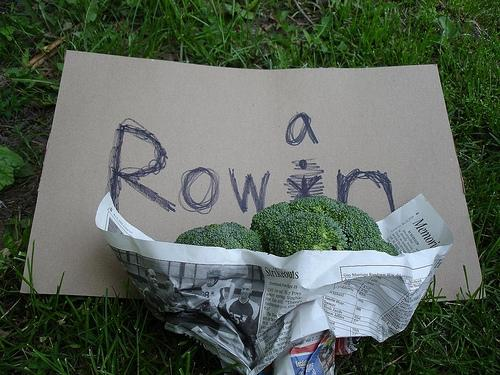broccoli: (268, 211, 348, 257), (174, 220, 263, 252), (250, 202, 294, 254), (343, 204, 383, 243), (288, 195, 344, 216), (347, 237, 399, 256)
